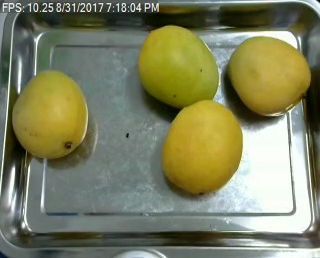Mango: (161, 100, 242, 193), (12, 68, 88, 158), (138, 27, 219, 108), (230, 35, 310, 116)
